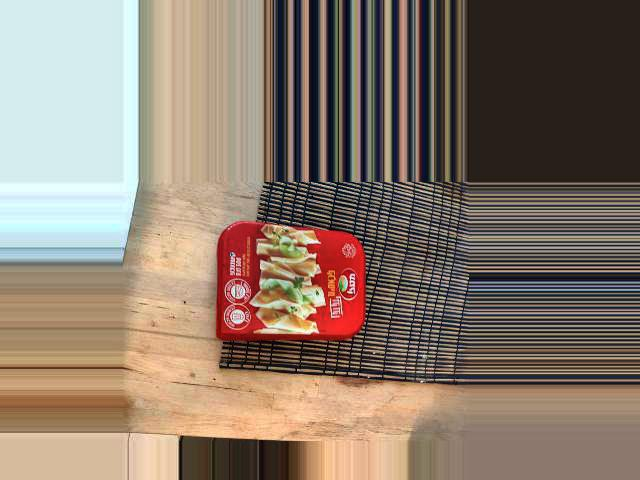cheese: (191, 230, 356, 338)
